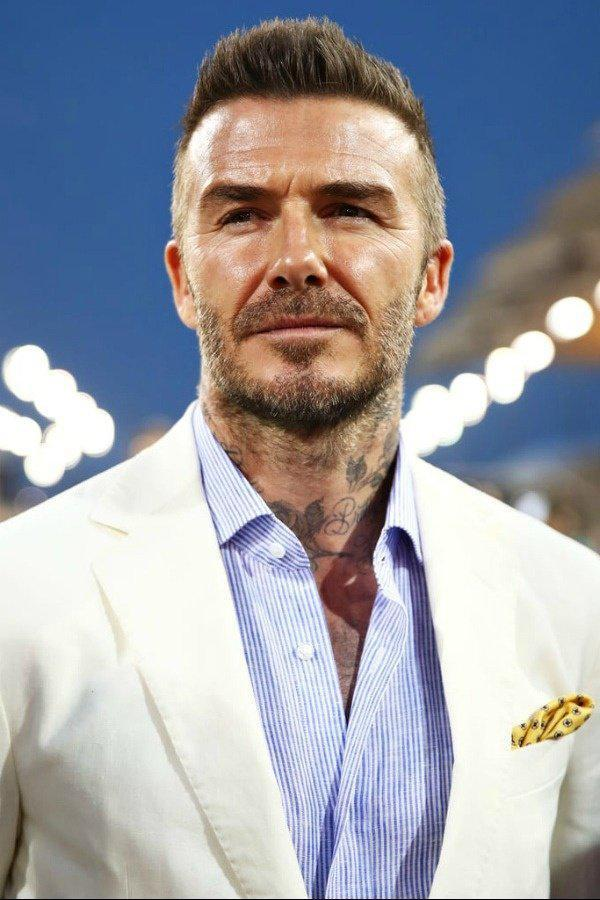Sober: (201, 112, 402, 421)
